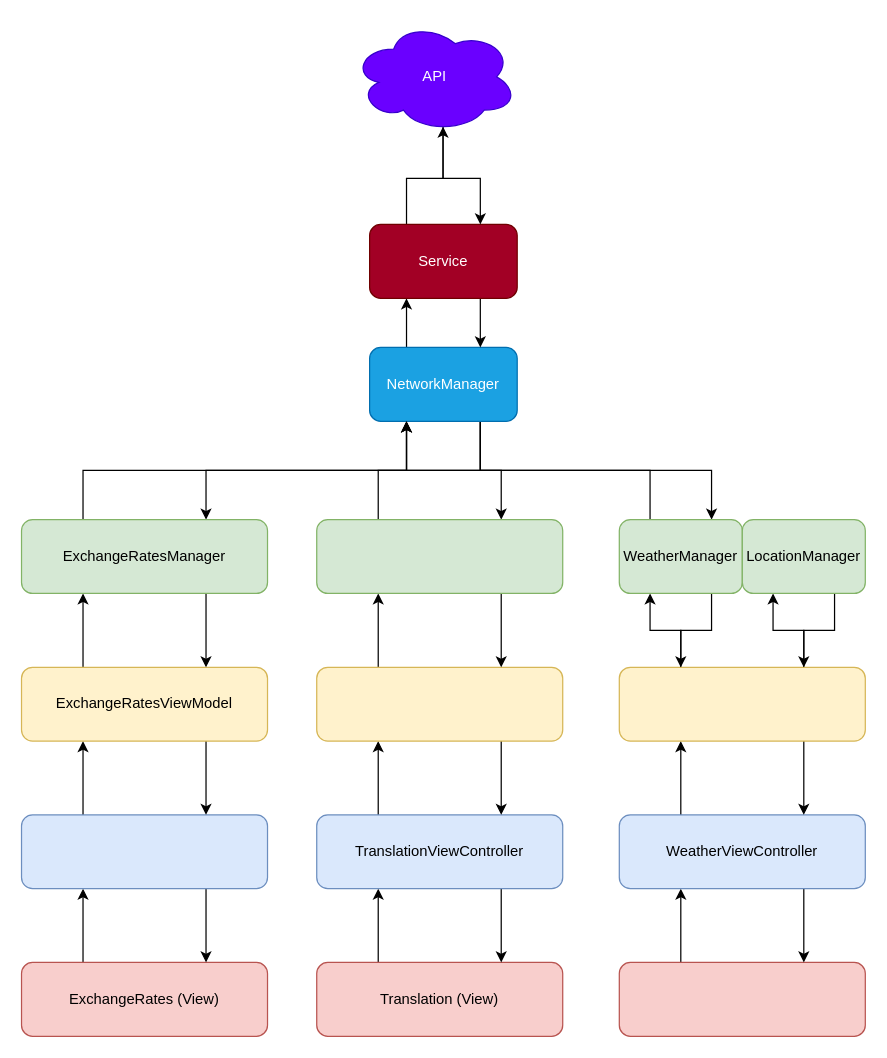
This 887x1058 diagram has some shape labels left out. Each missing label, with the centre of its shape:
"ExchangeRatesViewController" goes at (x=144, y=851).
"TranslationManager" goes at (x=439, y=555).
"TranslationViewModel" goes at (x=439, y=703).
"Weather (View)" goes at (x=741, y=998).
"WeatherViewModel" goes at (x=741, y=703).
